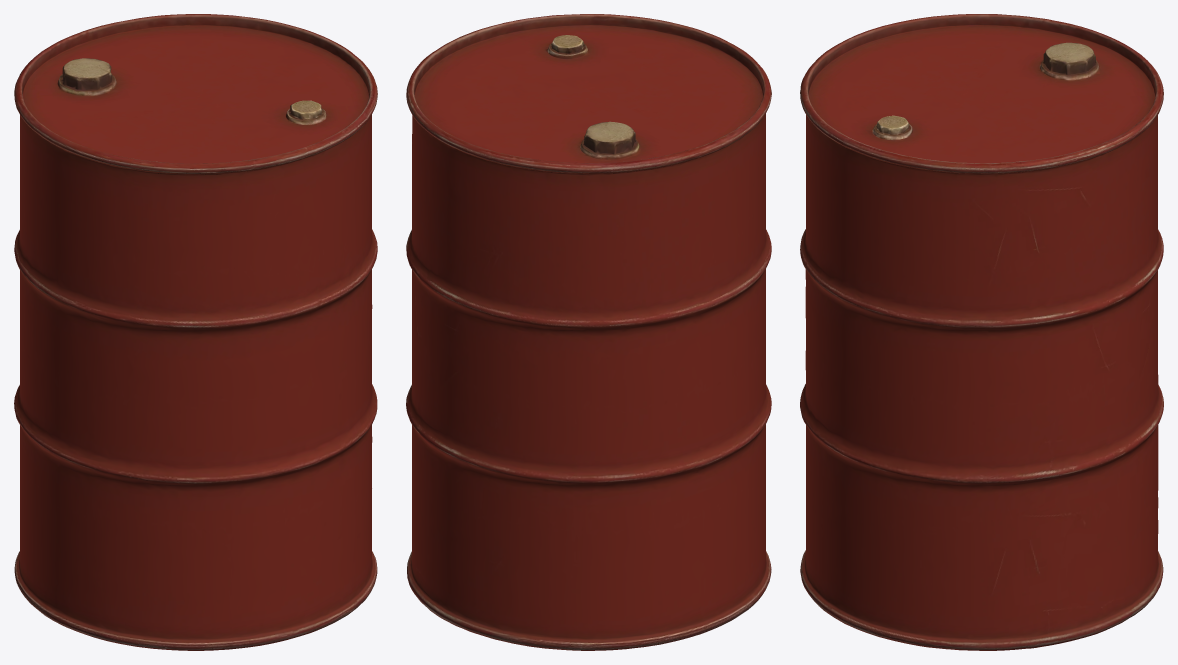
Rendered from barrel.hd.glb.
3 views of the same model, side by side, from view 1: azimuth 30°, elevation 25°; view 2: azimuth 150°, elevation 25°; view 3: azimuth 270°, elevation 25° (orthographic).
Visible parts, largest first — view 1: tripo_node_22df79fb-1a74-4e39-82aa-20d682700ef2; view 2: tripo_node_22df79fb-1a74-4e39-82aa-20d682700ef2; view 3: tripo_node_22df79fb-1a74-4e39-82aa-20d682700ef2.
Boxes of the visible parts, bbox=[...] form: tripo_node_22df79fb-1a74-4e39-82aa-20d682700ef2: bbox=[14, 14, 377, 650]; tripo_node_22df79fb-1a74-4e39-82aa-20d682700ef2: bbox=[406, 14, 771, 650]; tripo_node_22df79fb-1a74-4e39-82aa-20d682700ef2: bbox=[800, 14, 1163, 650].
Size of the model in its own units: 0.5895 by 0.88 by 0.5889.
Materials: 1 (1 with a texture image).
